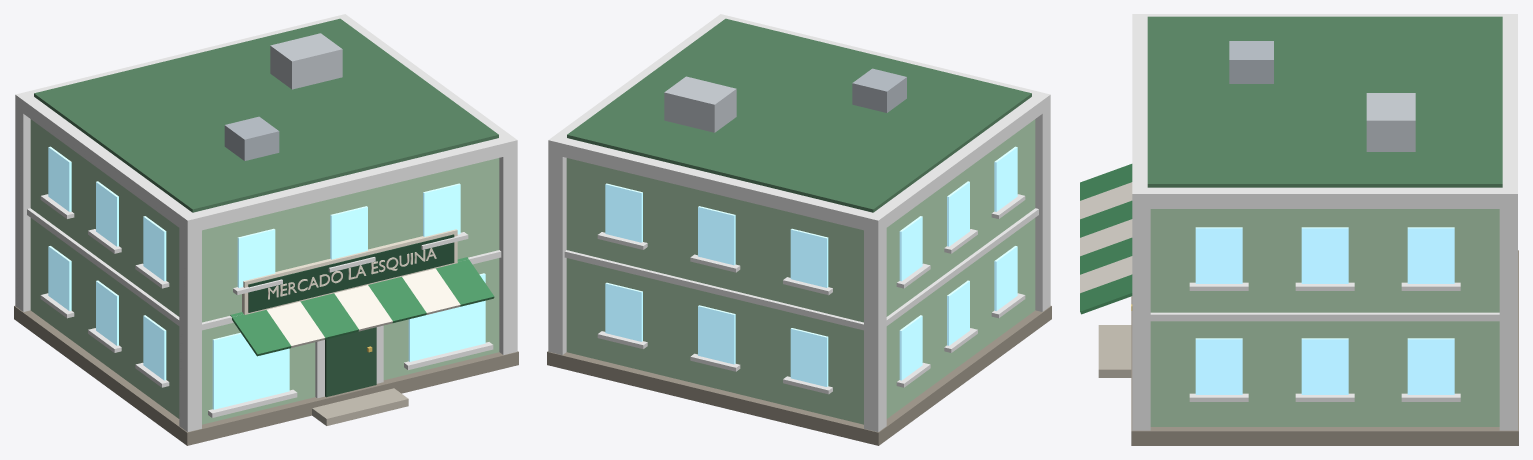
File: mercado-esquina.glb
The picture shows the model from 3 angles, left to right: view 1: azimuth 30°, elevation 25°; view 2: azimuth 150°, elevation 25°; view 3: azimuth 270°, elevation 25°; orthographic projection. The views are drawn at different scales.
Parts seen in each view (by area): view 1: mercado-esquina_11, mercado-esquina_1, mercado-esquina_2, mercado-esquina_3, mercado-esquina_0, mercado-esquina_7, mercado-esquina_10, mercado-esquina_8, mercado-esquina_12, mercado-esquina_4, mercado-esquina_6, mercado-esquina_13 (+2 smaller); view 2: mercado-esquina_1, mercado-esquina_11, mercado-esquina_2, mercado-esquina_3, mercado-esquina_0, mercado-esquina_12, mercado-esquina_13; view 3: mercado-esquina_11, mercado-esquina_1, mercado-esquina_2, mercado-esquina_3, mercado-esquina_0, mercado-esquina_7, mercado-esquina_8, mercado-esquina_12, mercado-esquina_13, mercado-esquina_6.
Boxes of the visible parts, x1=… form: mercado-esquina_11: x1=34, y1=18, x2=498, y2=212; mercado-esquina_1: x1=30, y1=119, x2=499, y2=424; mercado-esquina_2: x1=15, y1=14, x2=517, y2=431; mercado-esquina_3: x1=48, y1=146, x2=485, y2=409; mercado-esquina_0: x1=14, y1=306, x2=518, y2=445; mercado-esquina_7: x1=230, y1=257, x2=494, y2=356; mercado-esquina_10: x1=248, y1=234, x2=454, y2=312; mercado-esquina_8: x1=267, y1=268, x2=460, y2=347; mercado-esquina_12: x1=270, y1=33, x2=342, y2=89; mercado-esquina_4: x1=325, y1=327, x2=376, y2=397; mercado-esquina_6: x1=312, y1=388, x2=408, y2=425; mercado-esquina_13: x1=224, y1=116, x2=279, y2=160; mercado-esquina_1: x1=566, y1=119, x2=1035, y2=424; mercado-esquina_11: x1=567, y1=18, x2=1031, y2=212; mercado-esquina_2: x1=548, y1=14, x2=1050, y2=431; mercado-esquina_3: x1=605, y1=146, x2=1017, y2=386; mercado-esquina_0: x1=547, y1=306, x2=1051, y2=445; mercado-esquina_12: x1=664, y1=76, x2=736, y2=132; mercado-esquina_13: x1=852, y1=68, x2=906, y2=112; mercado-esquina_11: x1=1147, y1=16, x2=1502, y2=187; mercado-esquina_1: x1=1150, y1=209, x2=1499, y2=426; mercado-esquina_2: x1=1132, y1=14, x2=1517, y2=430; mercado-esquina_3: x1=1195, y1=227, x2=1454, y2=394; mercado-esquina_0: x1=1131, y1=250, x2=1518, y2=445; mercado-esquina_7: x1=1080, y1=164, x2=1132, y2=314; mercado-esquina_8: x1=1080, y1=182, x2=1132, y2=293; mercado-esquina_12: x1=1366, y1=93, x2=1415, y2=151; mercado-esquina_13: x1=1229, y1=41, x2=1273, y2=83; mercado-esquina_6: x1=1098, y1=325, x2=1131, y2=377.
Size of the model in its own units: 10.5 by 7.75 by 10.76.
